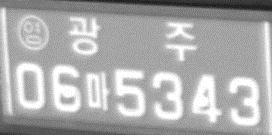0: (14, 62, 46, 110)
3: (228, 75, 262, 127), (151, 71, 185, 121)
4: (190, 74, 222, 122)
5: (113, 69, 147, 117)
6: (50, 63, 82, 114)
광주_D: (67, 15, 197, 61)
마: (85, 69, 110, 112)
영: (18, 13, 50, 52)
